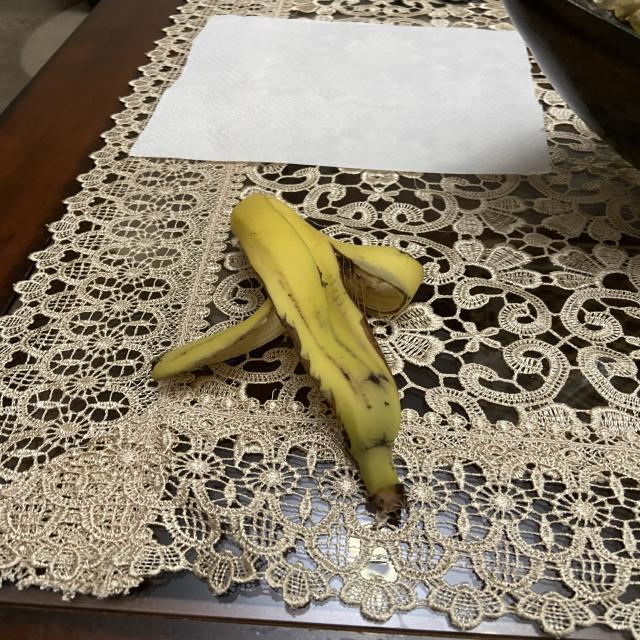banana-peel: (151, 190, 424, 527)
